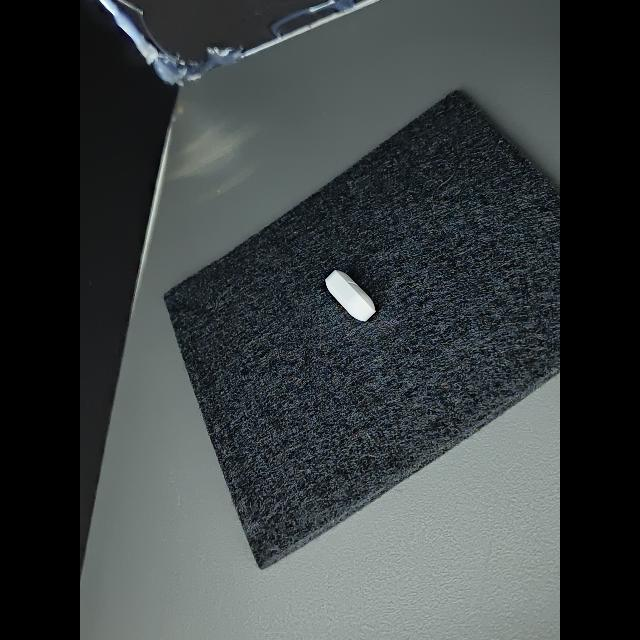Intact Pill: (325, 270, 376, 321)
